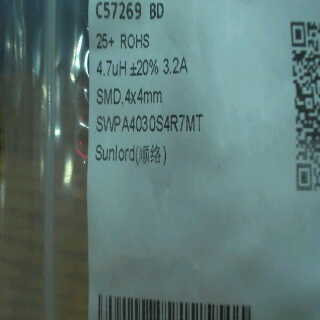4.7uH: (93, 57, 131, 81)
